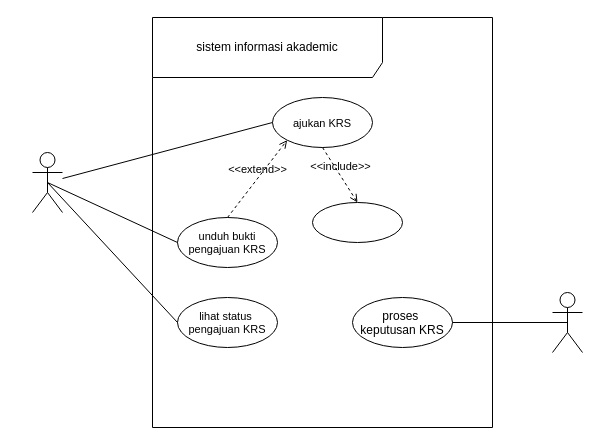
Some shapes in this 613 by 445 pixel diagram are drawn without their labels. Here are the shapes that lost their labels. From the top down, the box of each, then its label:
(32, 152, 62, 212): Mahasiswa
(312, 202, 402, 242): Validasi KRS
(552, 292, 582, 352): wali dosen
